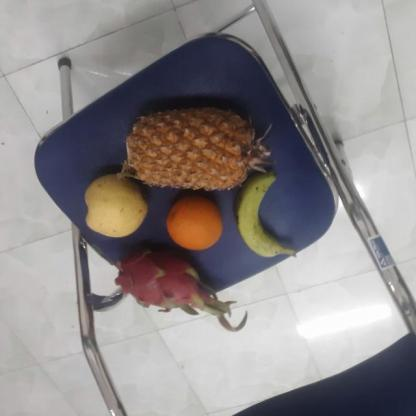orange: (164, 192, 226, 251)
pear: (82, 173, 150, 238)
pineapple: (125, 103, 261, 192)
pitaya: (118, 245, 212, 311)
